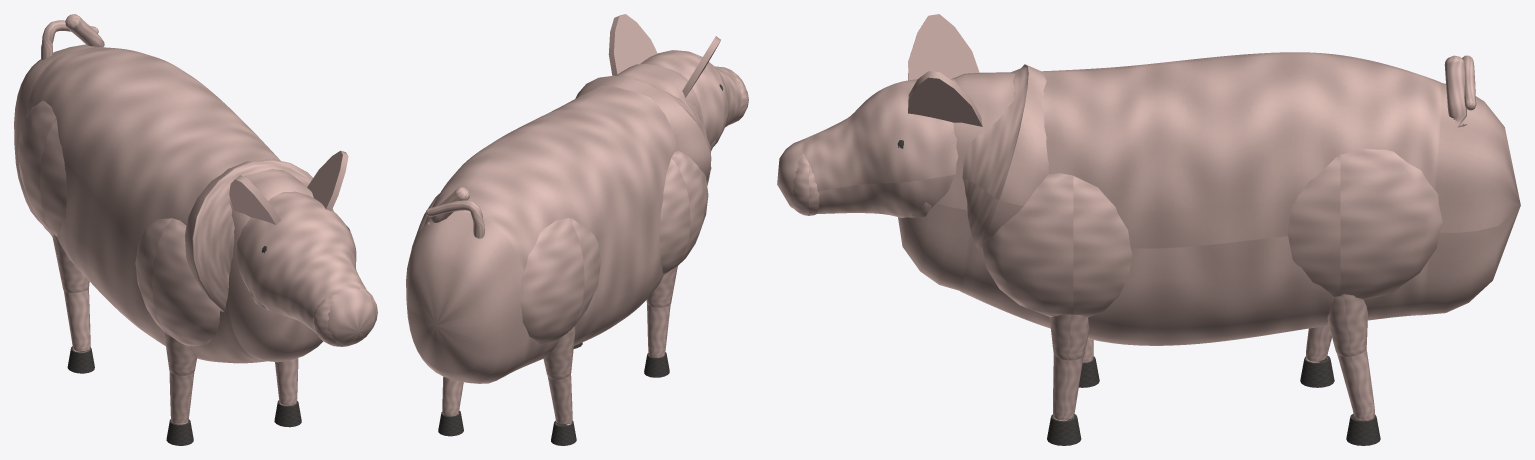
Rendered from farm-and-working-animals-hd-piglet-7e6b946e__29193.glb.
The picture shows the model from 3 angles, left to right: view 1: azimuth 30°, elevation 25°; view 2: azimuth 150°, elevation 25°; view 3: azimuth 270°, elevation 25°; orthographic projection. The views are drawn at different scales.
Visible parts, largest first — view 1: piglet; view 2: piglet; view 3: piglet.
Boxes of the visible parts, left/top/right/bottom form: piglet: left=14, top=14, right=377, bottom=445; piglet: left=406, top=14, right=748, bottom=445; piglet: left=777, top=14, right=1520, bottom=445.
Size of the model in its own units: 0.2052 by 0.3694 by 0.6784.
Materials: 2 (2 with a texture image).
